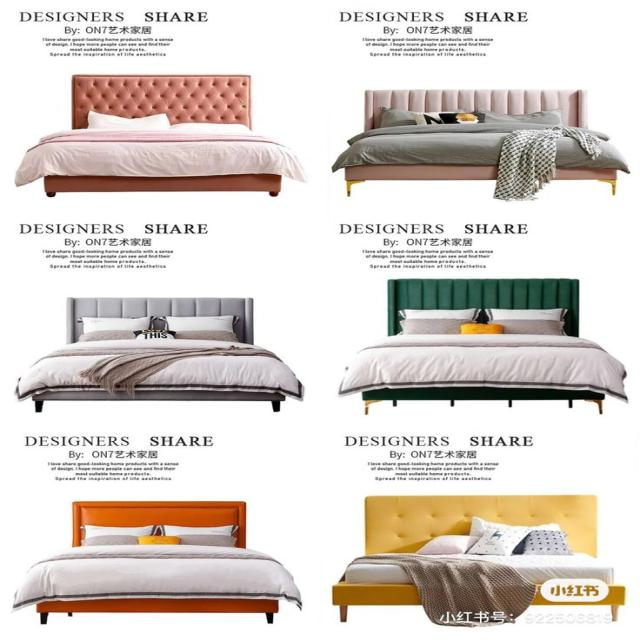obstacle: (337, 278, 628, 414), (332, 494, 626, 626), (14, 73, 307, 197), (11, 500, 302, 624), (15, 296, 303, 412), (331, 88, 630, 198)
